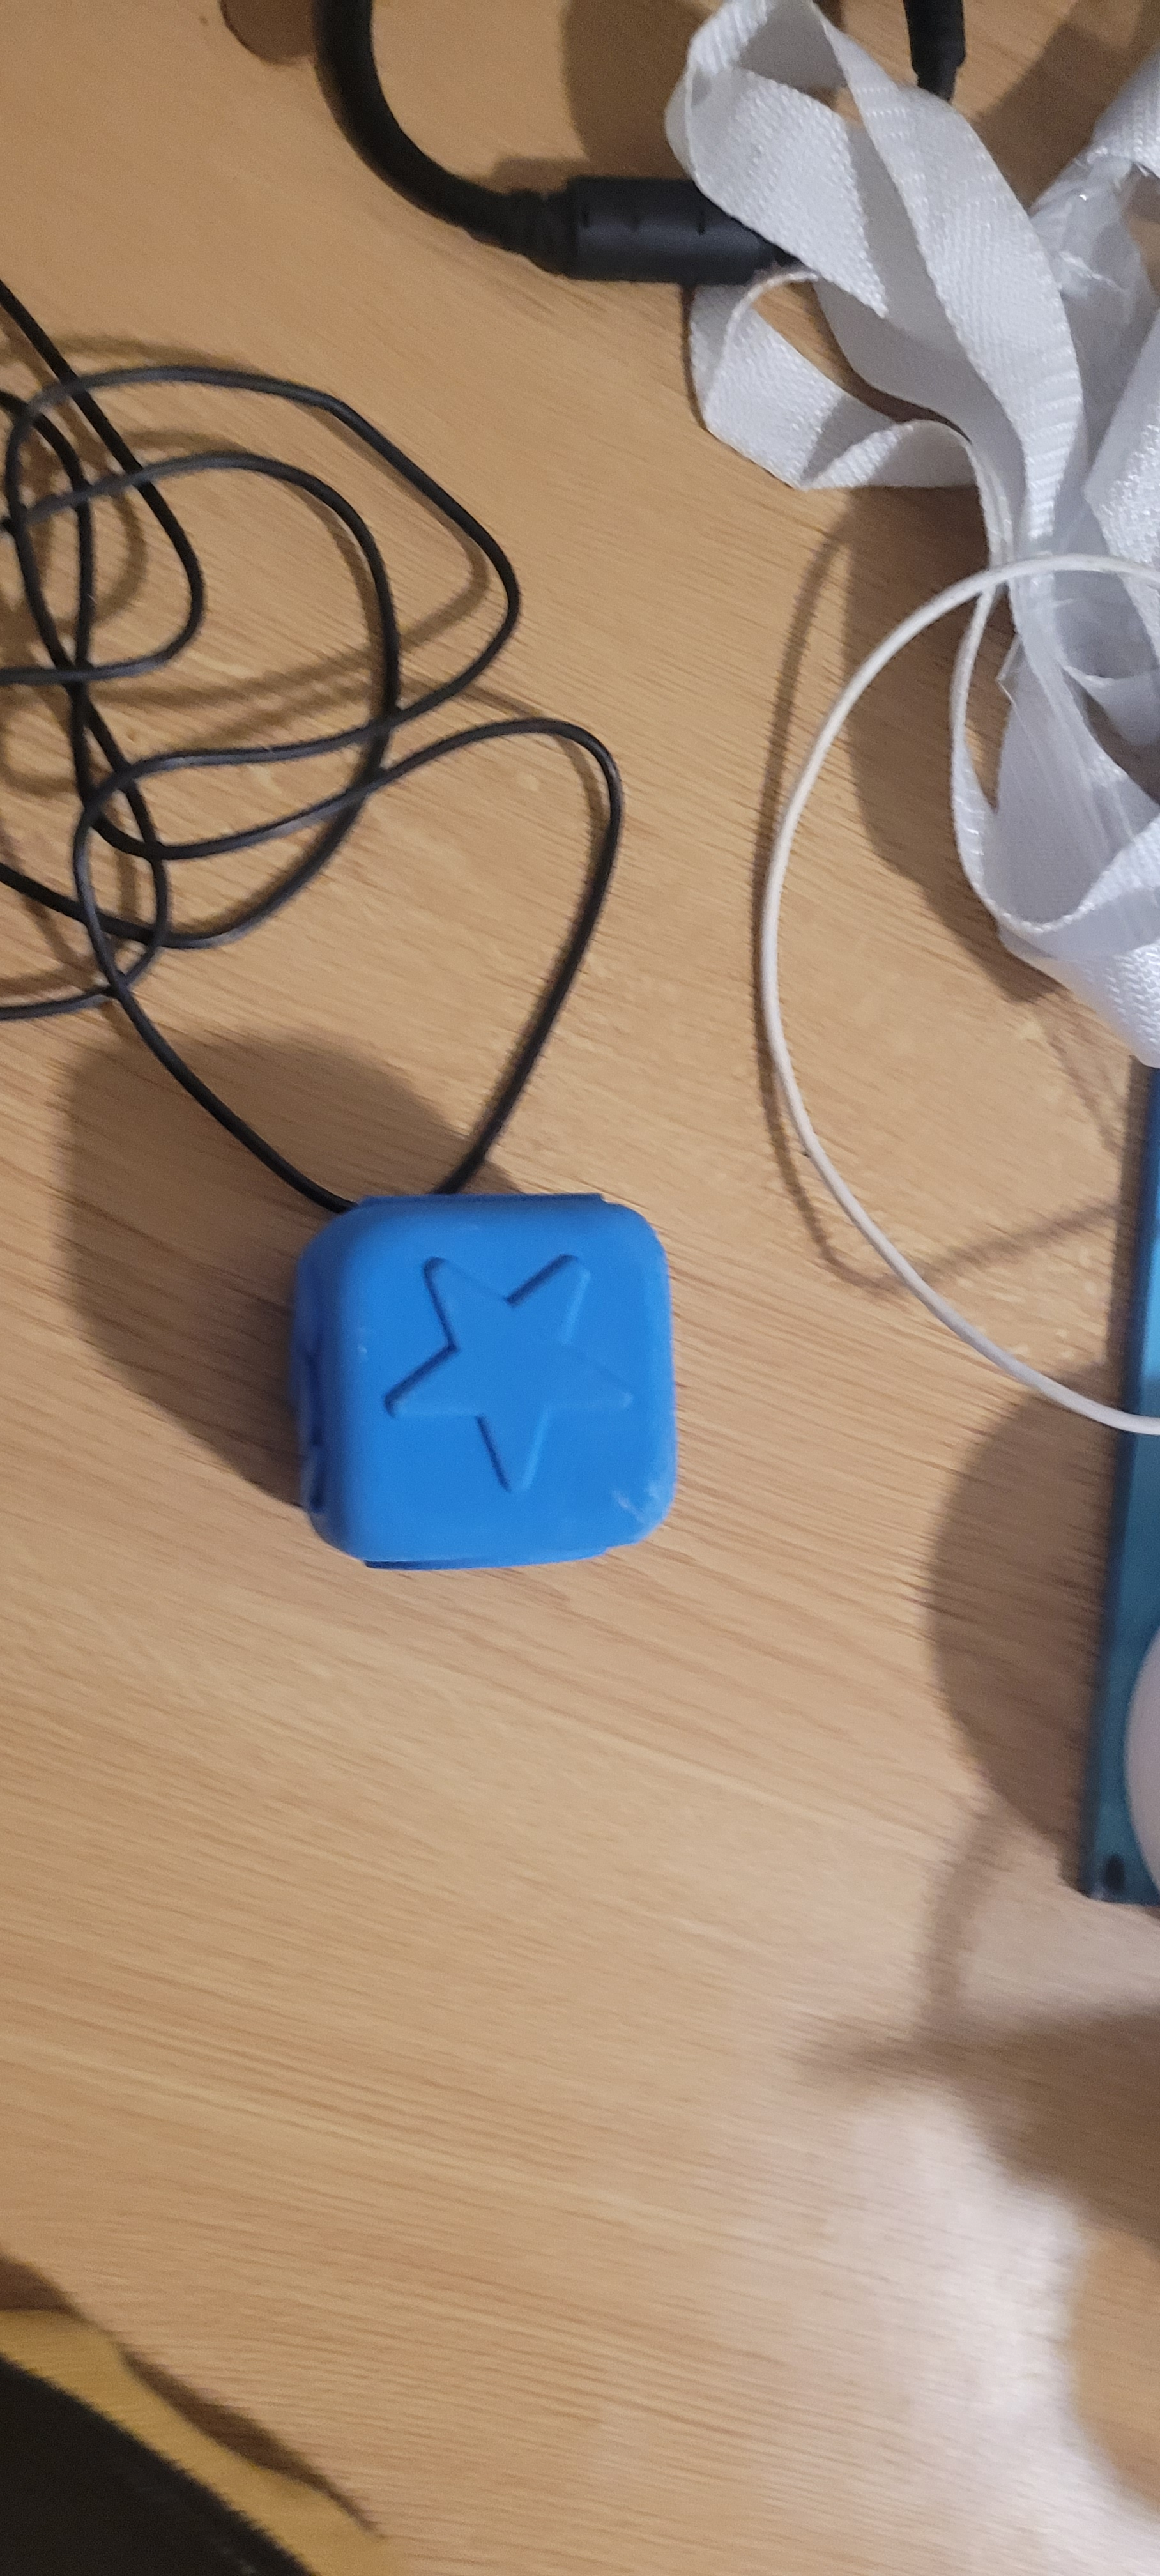Star: (360, 1203, 656, 1510)
